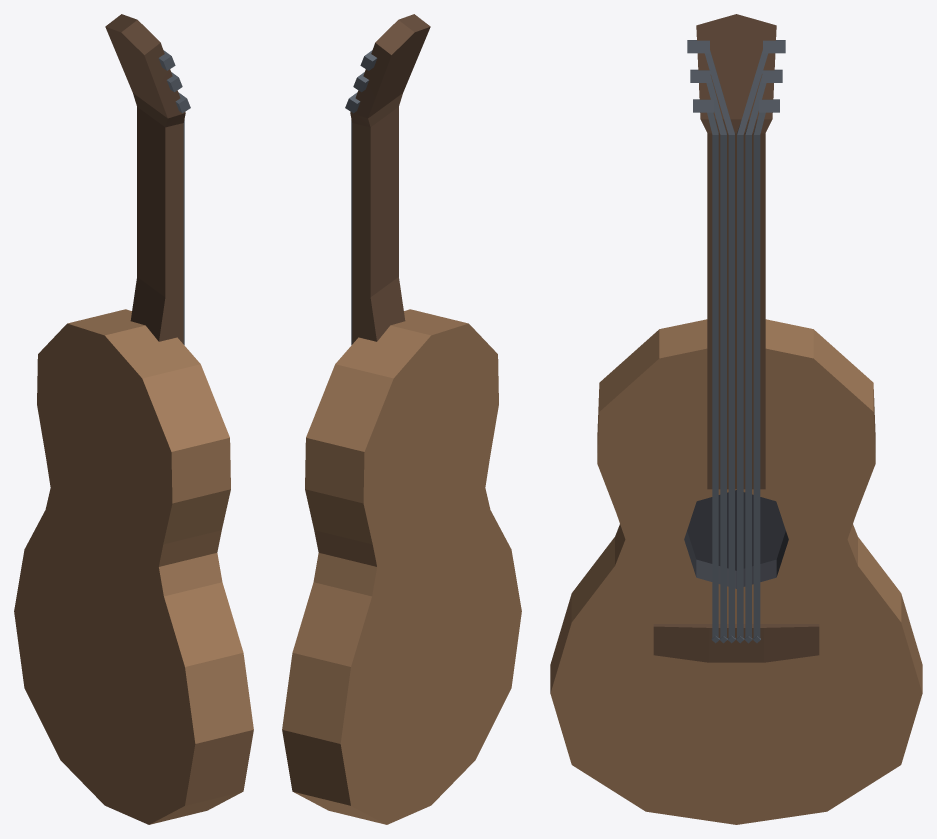
Rendered from guitar.dae.
The picture shows the model from 3 angles, left to right: view 1: azimuth 30°, elevation 25°; view 2: azimuth 150°, elevation 25°; view 3: azimuth 270°, elevation 25°; orthographic projection. The views are drawn at different scales.
Visible parts, largest first — view 1: guitar; view 2: guitar; view 3: guitar.
Part boxes in pixels (x1,y1,x2,y2): guitar: (14,14,253,824); guitar: (282,14,521,824); guitar: (550,14,922,824).
Size of the model in its own units: 0.0936 by 0.4225 by 1.
